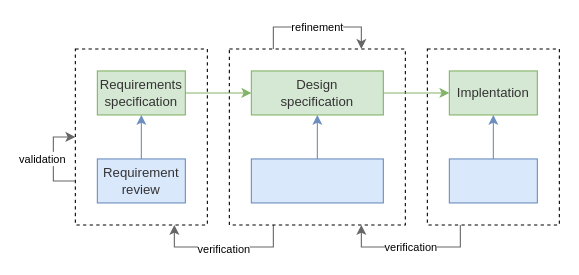
Image size: 579x275. Some labels were removed from this diagram. The shapes that lost their labels are listed below. From the top down, each one's centre as x and y in pixels, then its label:
At (x=316, y=180): "Design review".
At (x=492, y=180): "Testing".
